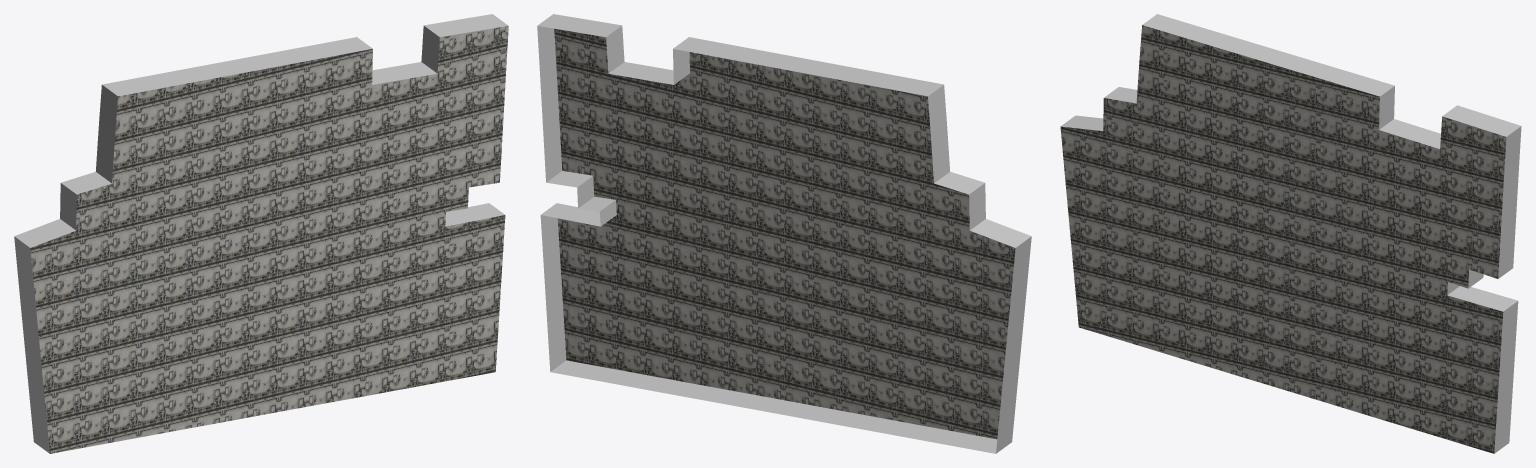
File: geospecific_2150.obj
The picture shows the model from 3 angles, left to right: view 1: azimuth 30°, elevation 25°; view 2: azimuth 150°, elevation 25°; view 3: azimuth 330°, elevation 25°; orthographic projection. The views are drawn at different scales.
Visible parts, largest first — view 1: Building; view 2: Building; view 3: Building.
Boxes of the visible parts, <box> form: Building: <box>14,14,508,453</box>; Building: <box>537,14,1031,453</box>; Building: <box>1060,14,1521,453</box>.
Size of the model in its own units: 51.19 by 37.63 by 3.
